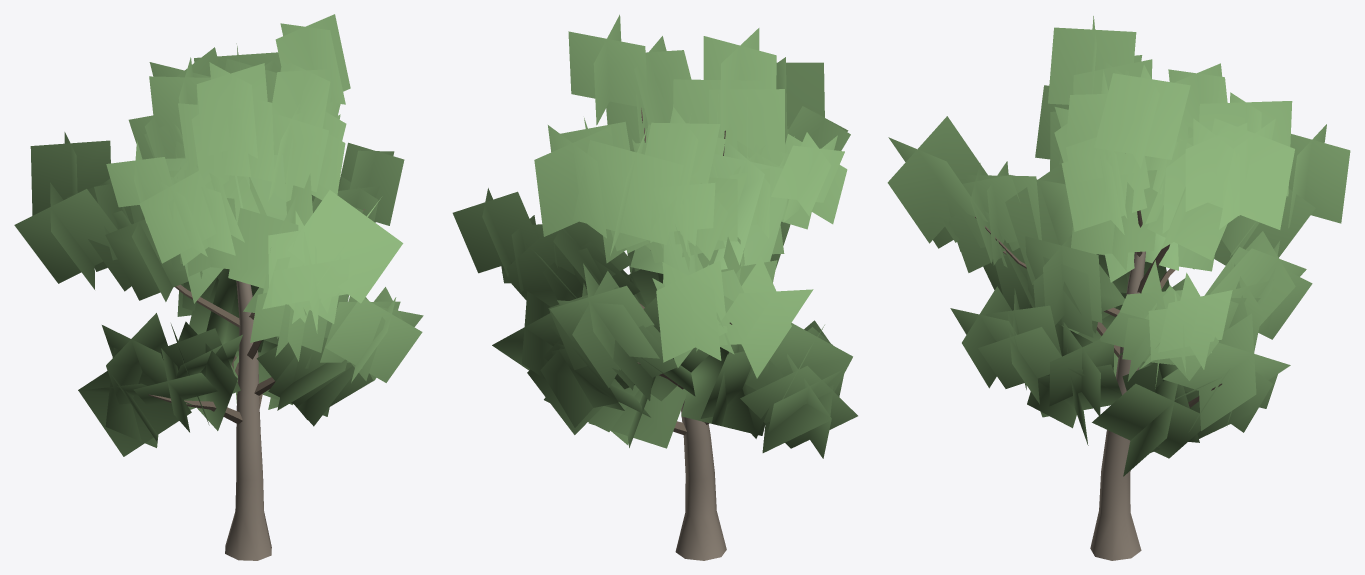
File: tree_oak_autumn_a_lod0.glb
3 renders of one model, left to right at view 1: azimuth 30°, elevation 25°; view 2: azimuth 150°, elevation 25°; view 3: azimuth 270°, elevation 25°, orthographic. The views are drawn at different scales.
Parts seen in each view (by area): view 1: tree_oak_autumn_a_lod0; view 2: tree_oak_autumn_a_lod0; view 3: tree_oak_autumn_a_lod0.
Part boxes in pixels (<box>): tree_oak_autumn_a_lod0: <box>14,14,423,560</box>; tree_oak_autumn_a_lod0: <box>452,14,857,560</box>; tree_oak_autumn_a_lod0: <box>887,16,1350,560</box>.
Bounding box in the file's own units: 9.42 × 12.73 × 10.32.
